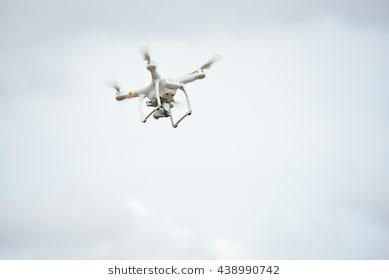drone: (90, 36, 234, 144)
